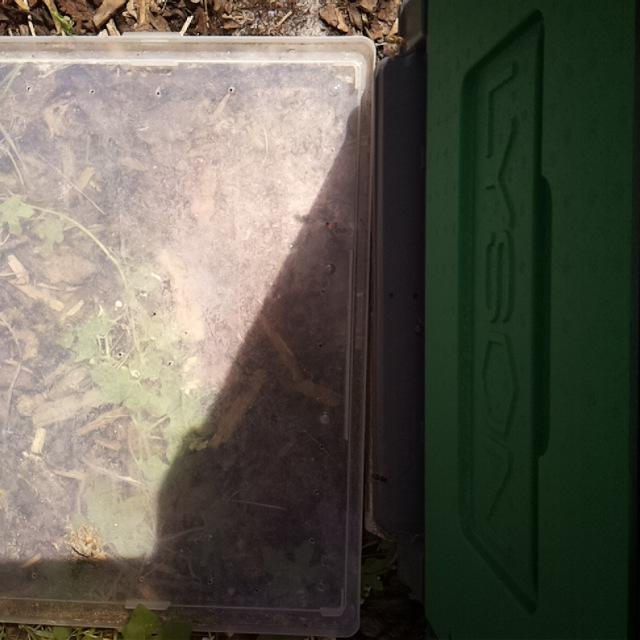worker-bee: (365, 468, 394, 487)
